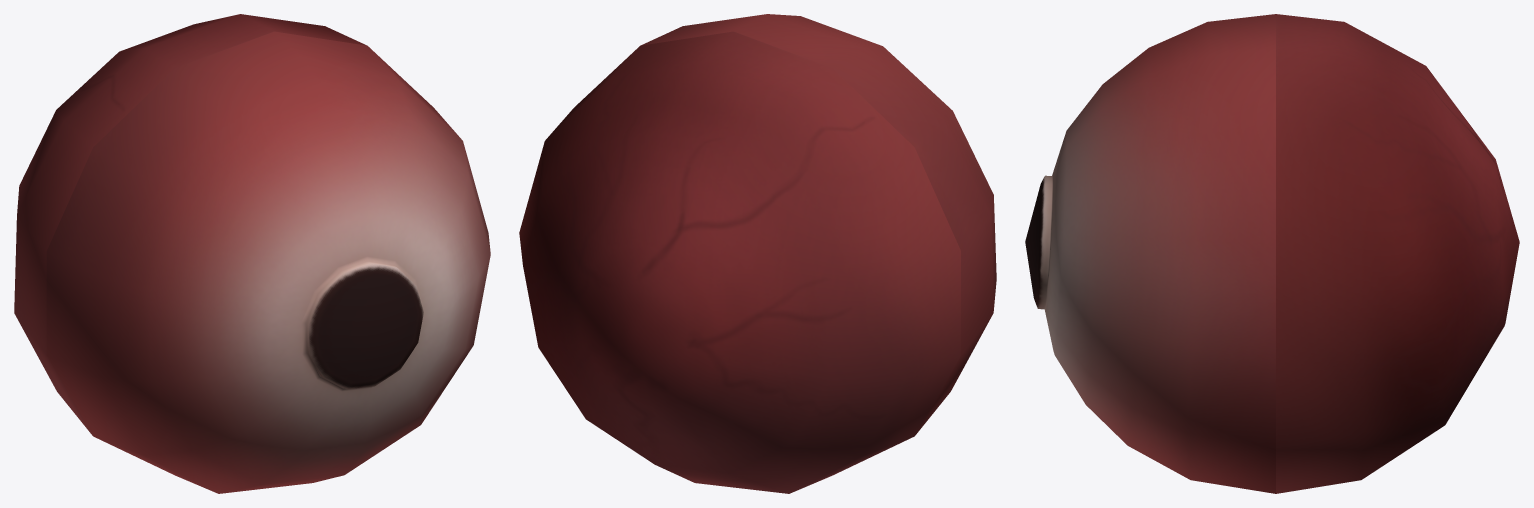
The model's file is PopOutEye.fbx.
3 views of the same model, side by side, from view 1: azimuth 30°, elevation 25°; view 2: azimuth 150°, elevation 25°; view 3: azimuth 270°, elevation 25° (orthographic).
Visible parts, largest first — view 1: Eye; view 2: Eye; view 3: Eye.
Part boxes in pixels (x1,y1,x2,y2): Eye: (14,14,490,493); Eye: (519,14,996,493); Eye: (1025,14,1519,493).
Bounding box in the file's own units: 5.79 × 5.83 × 6.
